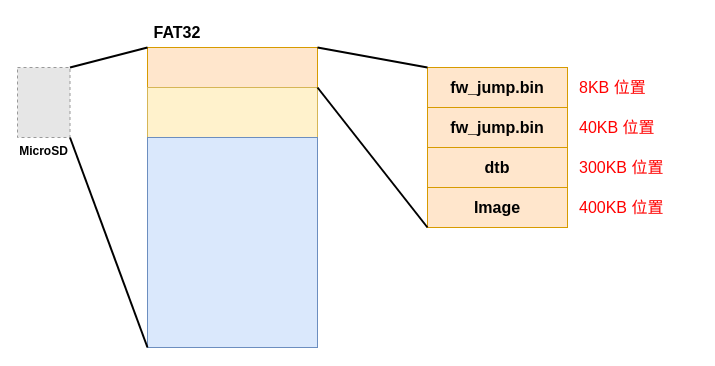
Image size: 715x366. Some labels were removed from this diagram. Grey dashed boxes stand in for pictures. Here are the shapes that lost their labels. From the top down, the centre of each, then its label:
the point at 232,67: Head (預留16MB)
the point at 232,112: Table
the point at 232,242: Files and Dirs
